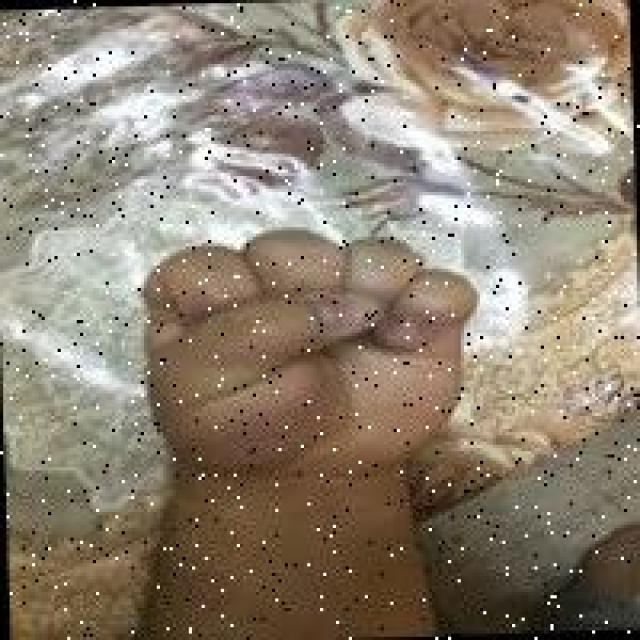E: (122, 218, 490, 483)
